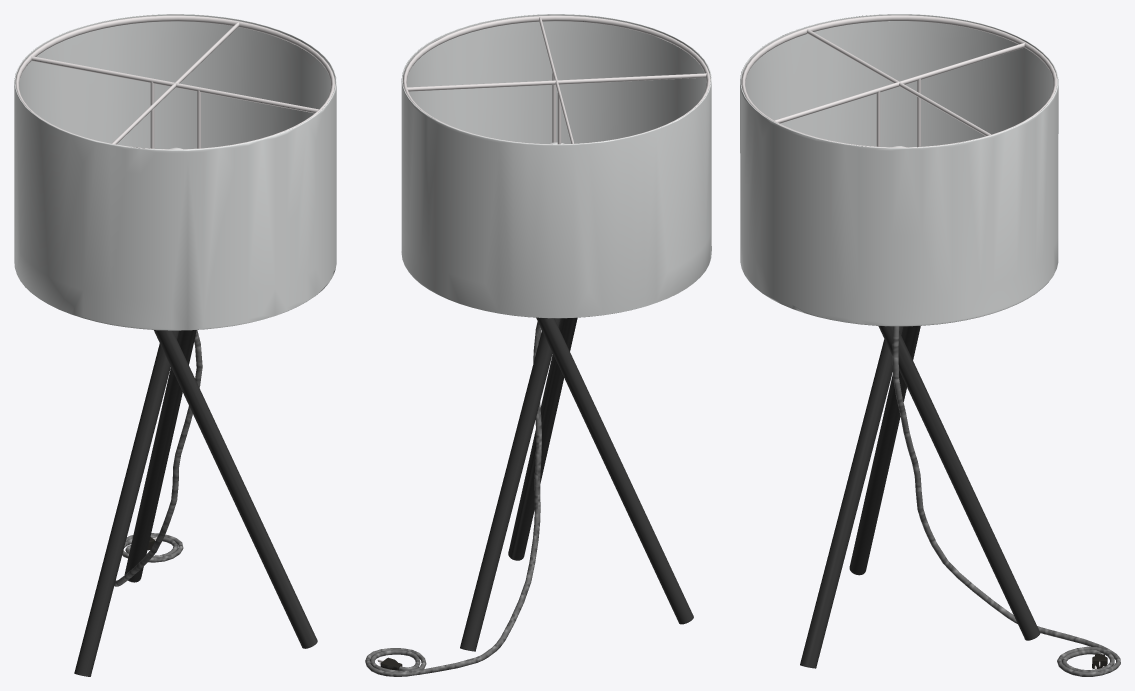
The model's file is B073P39KRV.glb.
3 renders of one model, left to right at view 1: azimuth 30°, elevation 25°; view 2: azimuth 150°, elevation 25°; view 3: azimuth 270°, elevation 25°, orthographic. The views are drawn at different scales.
Parts seen in each view (by area): view 1: RootNode; view 2: RootNode; view 3: RootNode.
Part boxes in pixels (x1,y1,x2,y2): RootNode: (14, 14, 336, 676); RootNode: (365, 14, 711, 676); RootNode: (740, 14, 1120, 676).
Bounding box in the file's own units: 0.3526 × 0.6737 × 0.4222.
Materials: 1 (1 with a texture image).
